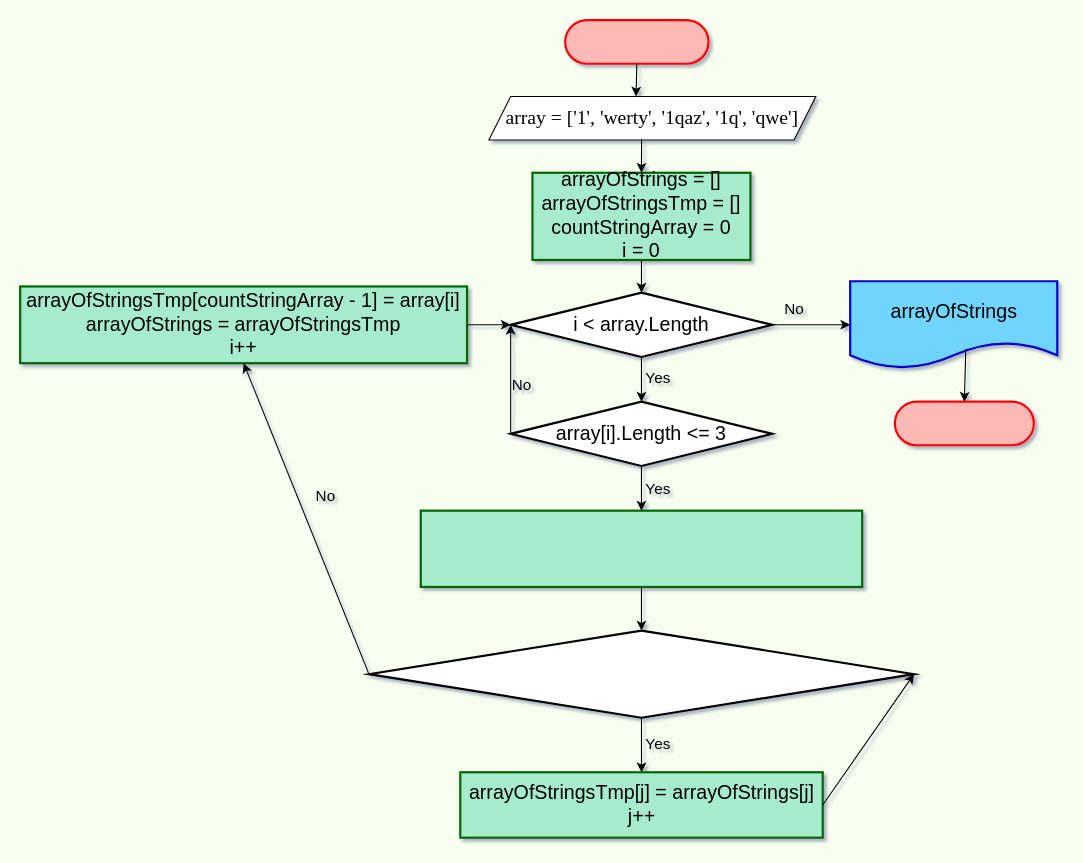
This 1083x863 diagram has some shape labels left out. Here are the shapes that lost their labels. From the top down, the box of each, then its label:
(564, 19, 709, 64): Start
(893, 400, 1034, 446): End
(419, 509, 863, 588): countStringArray++ arrayOfStringsTmp = new string[countStringArray] j = 0
(367, 629, 915, 718): j < arrayOfStringsTmp.Length - 1
